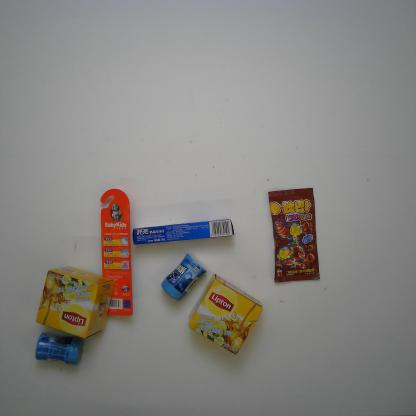Candy: (267, 184, 321, 284)
Gum: (160, 254, 207, 304), (34, 331, 85, 368)
Instant Drink: (186, 272, 265, 355), (34, 264, 115, 342)
Personal Hygiene: (98, 187, 136, 318), (132, 218, 236, 248)
